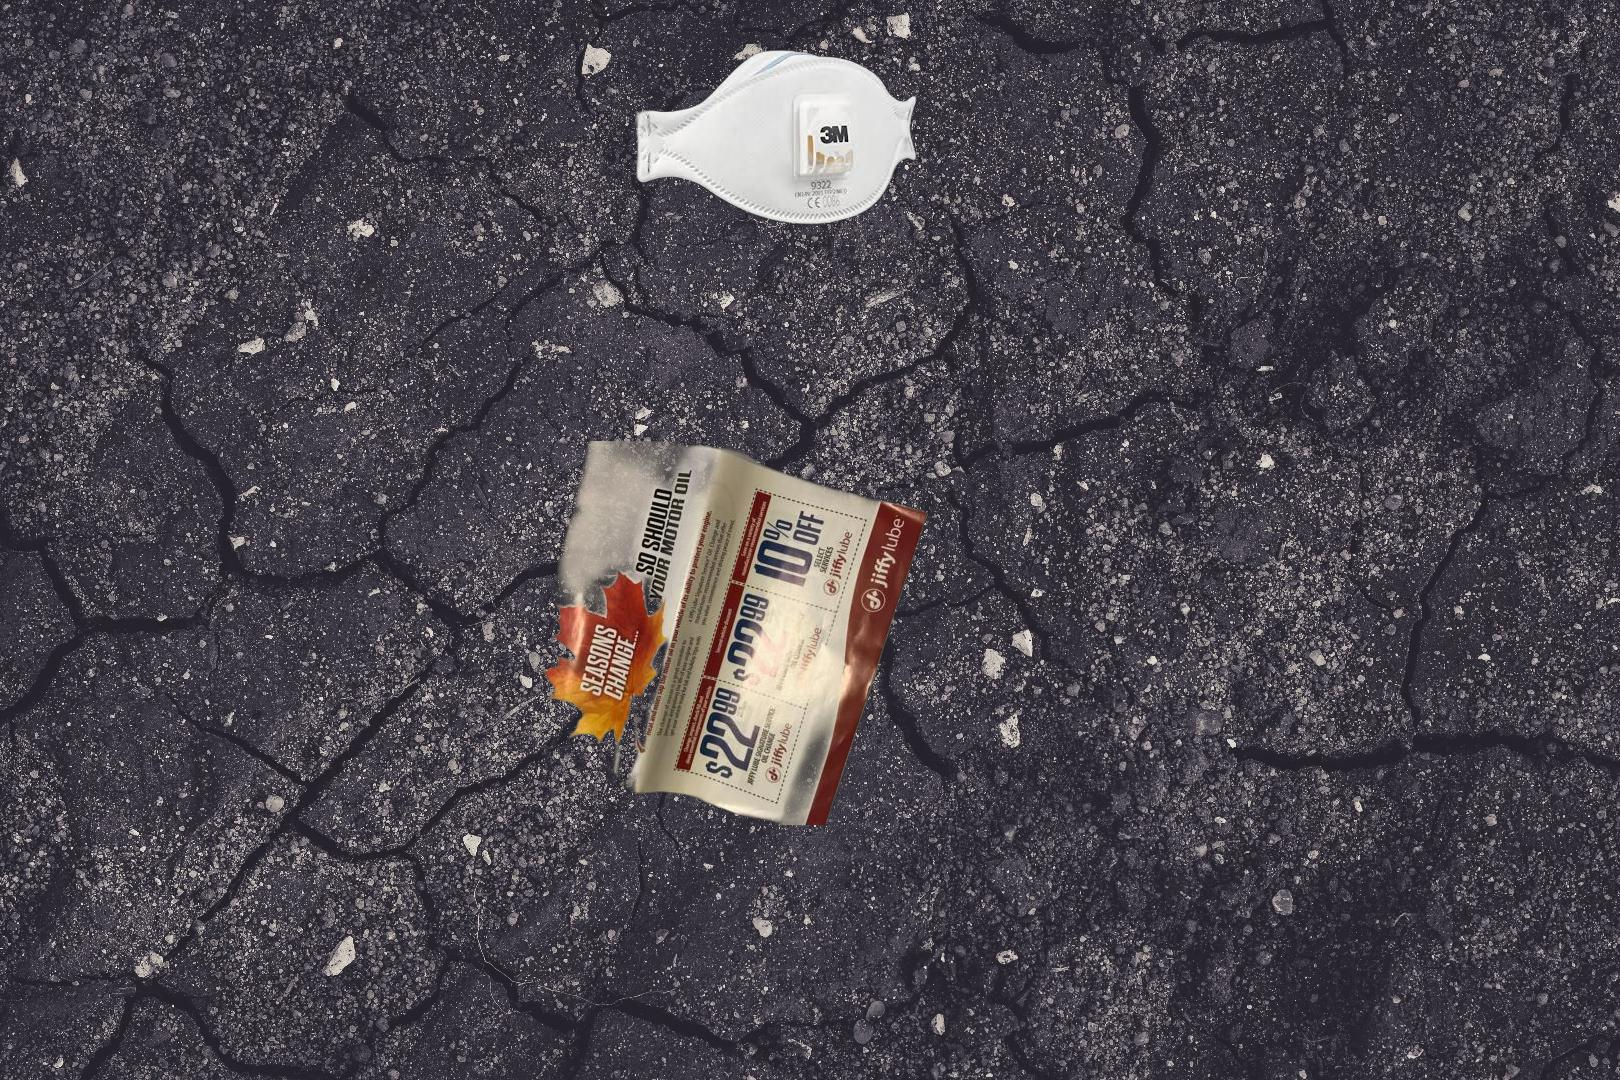paper: (538, 441, 933, 824)
trash: (635, 48, 918, 225)
